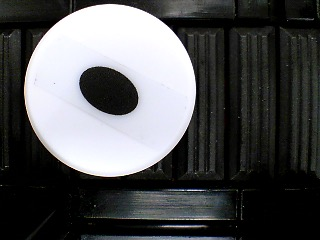BOHOEL: (23, 3, 197, 177)
